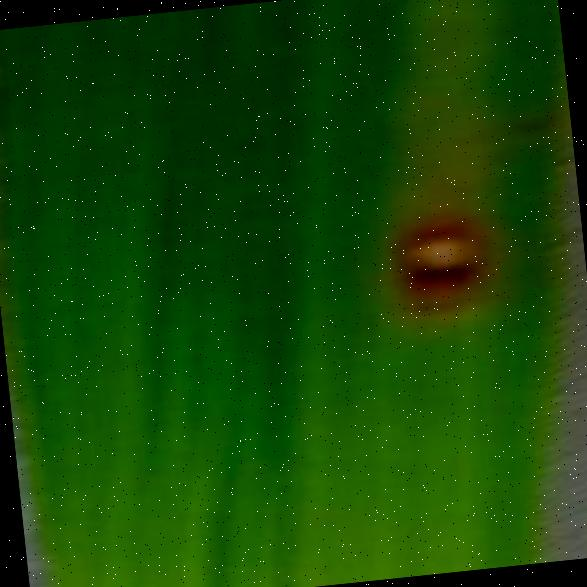Leaf_smut: (326, 140, 507, 342)
